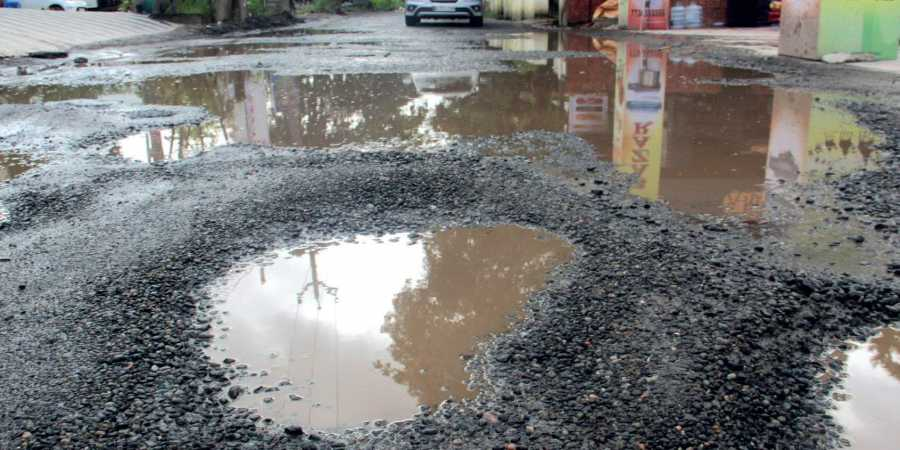pothole: (142, 205, 581, 430)
